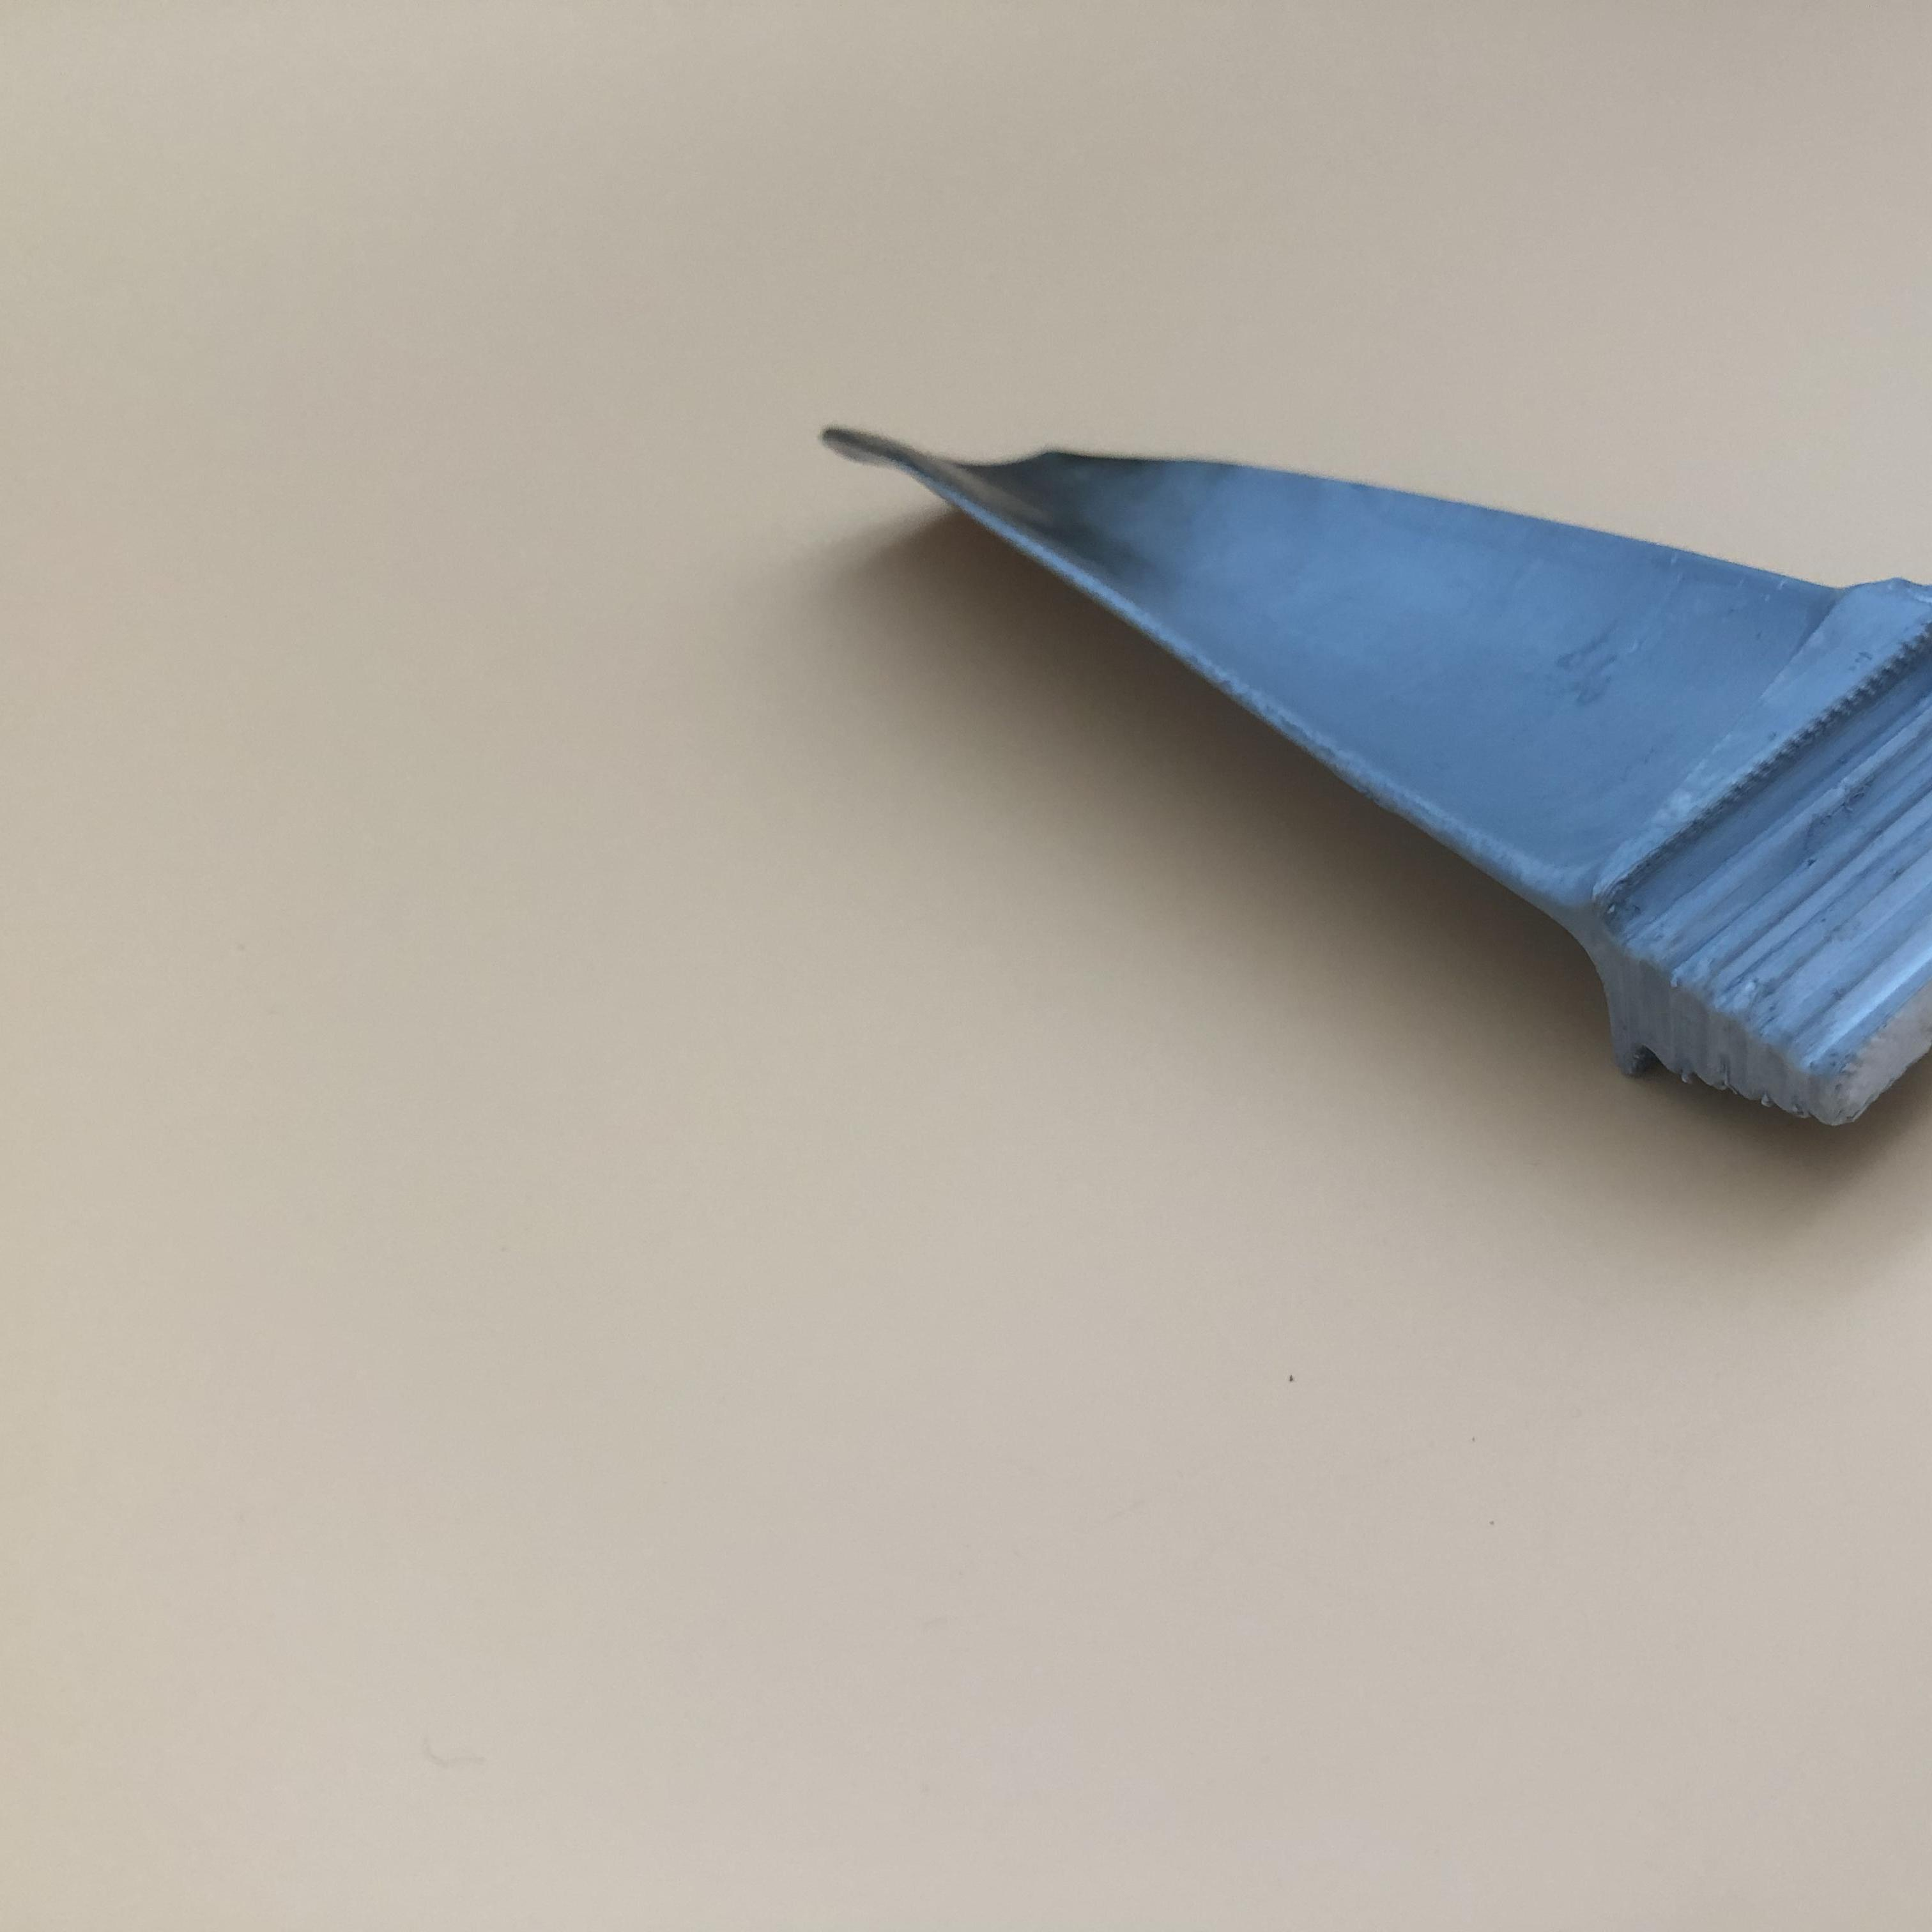ablation: (835, 423, 1187, 564)
